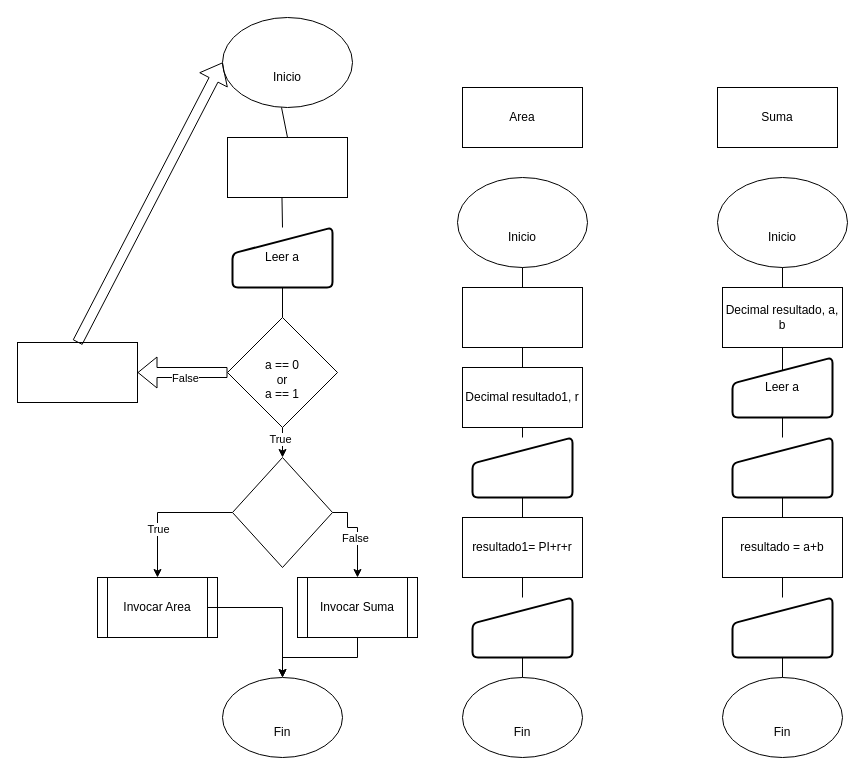
Some shapes in this 865 by 775 pixel diagram are drawn without their labels. Each missing label, with the centre of its shape:
"a == 0" goes at point (282, 512).
"Decimal PI = 3.14159" goes at point (522, 317).
"Entero a" goes at point (287, 167).
"Error" goes at point (77, 372).
"Leer b" goes at point (782, 467).
"Leer r" goes at point (522, 467).
"Mostrar resultado" goes at point (782, 627).
"Mostrar resultado1" goes at point (522, 627).
